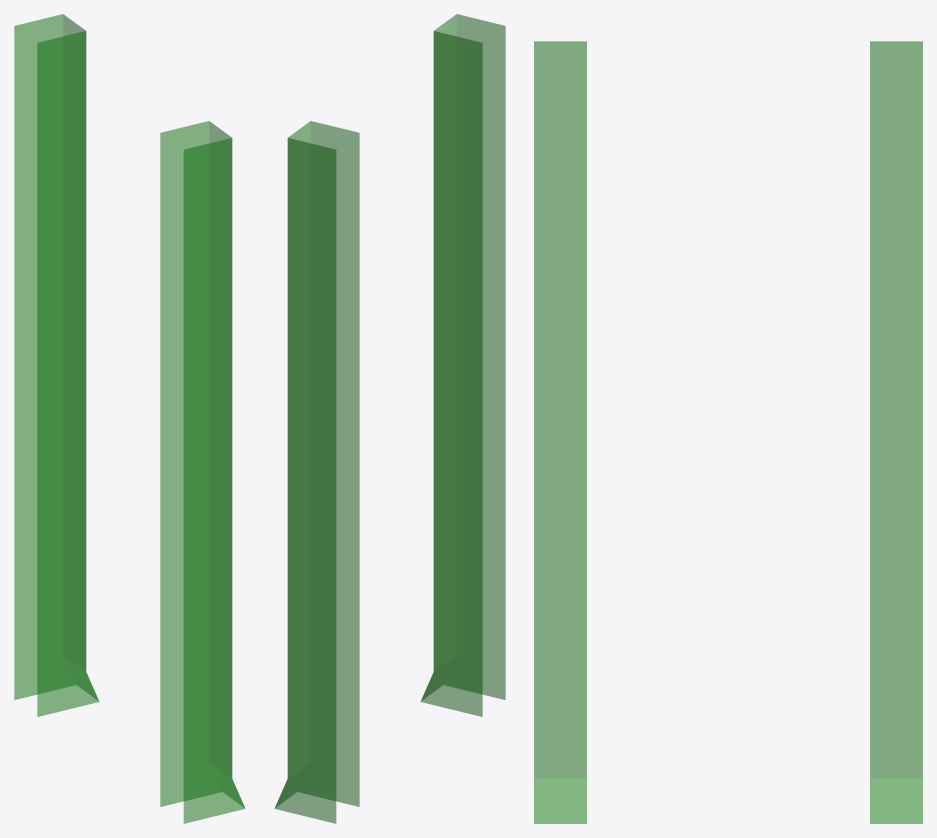
File: D06_pillar01.obj
The picture shows the model from 3 angles, left to right: view 1: azimuth 30°, elevation 25°; view 2: azimuth 150°, elevation 25°; view 3: azimuth 270°, elevation 25°; orthographic projection. The views are drawn at different scales.
Size of the model in its own units: 2.33 by 24.2 by 11.
